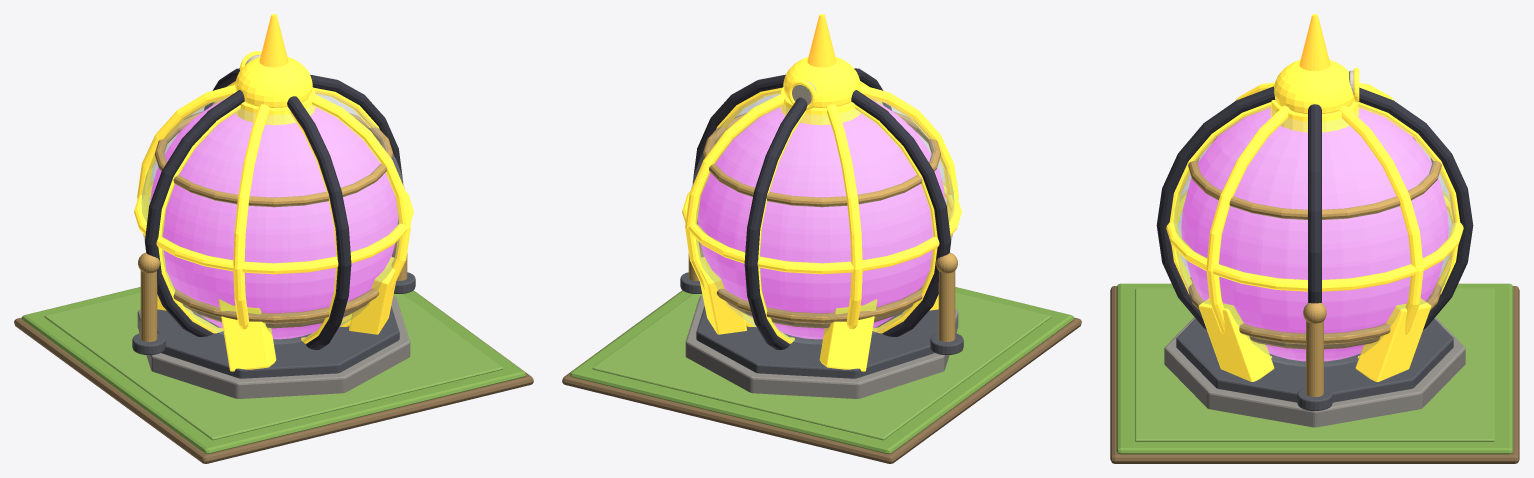
The model's file is elixir_storage_lv9.glb.
The picture shows the model from 3 angles, left to right: view 1: azimuth 30°, elevation 25°; view 2: azimuth 150°, elevation 25°; view 3: azimuth 270°, elevation 25°; orthographic projection. The views are drawn at different scales.
Visible parts, largest first — view 1: GlassOrb, ElixirCore, Base_Inner, Base_Grass, OctagonalReinforcedBase, StandPlinth, Base_Dirt, GoldenRib_1, EquatorialBrassBand, ES_ArmorRib_2, ES_ArmorRib_1, UpperTropicsBand (+14 smaller); view 2: GlassOrb, ElixirCore, Base_Inner, Base_Grass, OctagonalReinforcedBase, StandPlinth, Base_Dirt, GoldenRib_0, ES_ArmorRib_0, EquatorialBrassBand, ES_ArmorRib_1, UpperTropicsBand (+14 smaller); view 3: GlassOrb, ElixirCore, Base_Inner, Base_Grass, OctagonalReinforcedBase, StandPlinth, Base_Dirt, ES_ArmorRib_1, EquatorialBrassBand, ES_ArmorRib_3, TopPressureDome, GoldenRib_0 (+14 smaller).
Boxes of the visible parts, x1,y1,x2,y2 form: GlassOrb: (141, 91, 404, 344); ElixirCore: (150, 99, 398, 339); Base_Inner: (44, 292, 503, 440); Base_Grass: (22, 287, 525, 453); OctagonalReinforcedBase: (157, 306, 399, 378); StandPlinth: (137, 295, 410, 398); Base_Dirt: (14, 291, 533, 463); GoldenRib_1: (137, 84, 410, 326); EquatorialBrassBand: (134, 180, 413, 274); ES_ArmorRib_2: (145, 74, 400, 336); ES_ArmorRib_1: (204, 75, 351, 347); UpperTropicsBand: (154, 111, 393, 207); GlassOrb: (691, 91, 954, 344); ElixirCore: (697, 99, 945, 339); Base_Inner: (592, 292, 1051, 440); Base_Grass: (570, 287, 1073, 453); OctagonalReinforcedBase: (696, 306, 938, 378); StandPlinth: (685, 295, 958, 398); Base_Dirt: (562, 291, 1081, 463); GoldenRib_0: (685, 84, 958, 326); ES_ArmorRib_0: (703, 78, 950, 336); EquatorialBrassBand: (682, 180, 961, 274); ES_ArmorRib_1: (744, 68, 891, 349); UpperTropicsBand: (702, 111, 941, 207); GlassOrb: (1174, 106, 1455, 366); ElixirCore: (1181, 108, 1448, 361); Base_Inner: (1135, 288, 1494, 441); Base_Grass: (1116, 283, 1513, 454); OctagonalReinforcedBase: (1176, 318, 1453, 402); StandPlinth: (1164, 317, 1465, 427); Base_Dirt: (1110, 286, 1519, 463); ES_ArmorRib_1: (1156, 86, 1472, 329); EquatorialBrassBand: (1166, 190, 1463, 291); ES_ArmorRib_3: (1157, 87, 1473, 329); TopPressureDome: (1274, 60, 1353, 113); GoldenRib_0: (1211, 82, 1423, 358).
Size of the model in its own units: 2.76 by 2.71 by 2.76.
